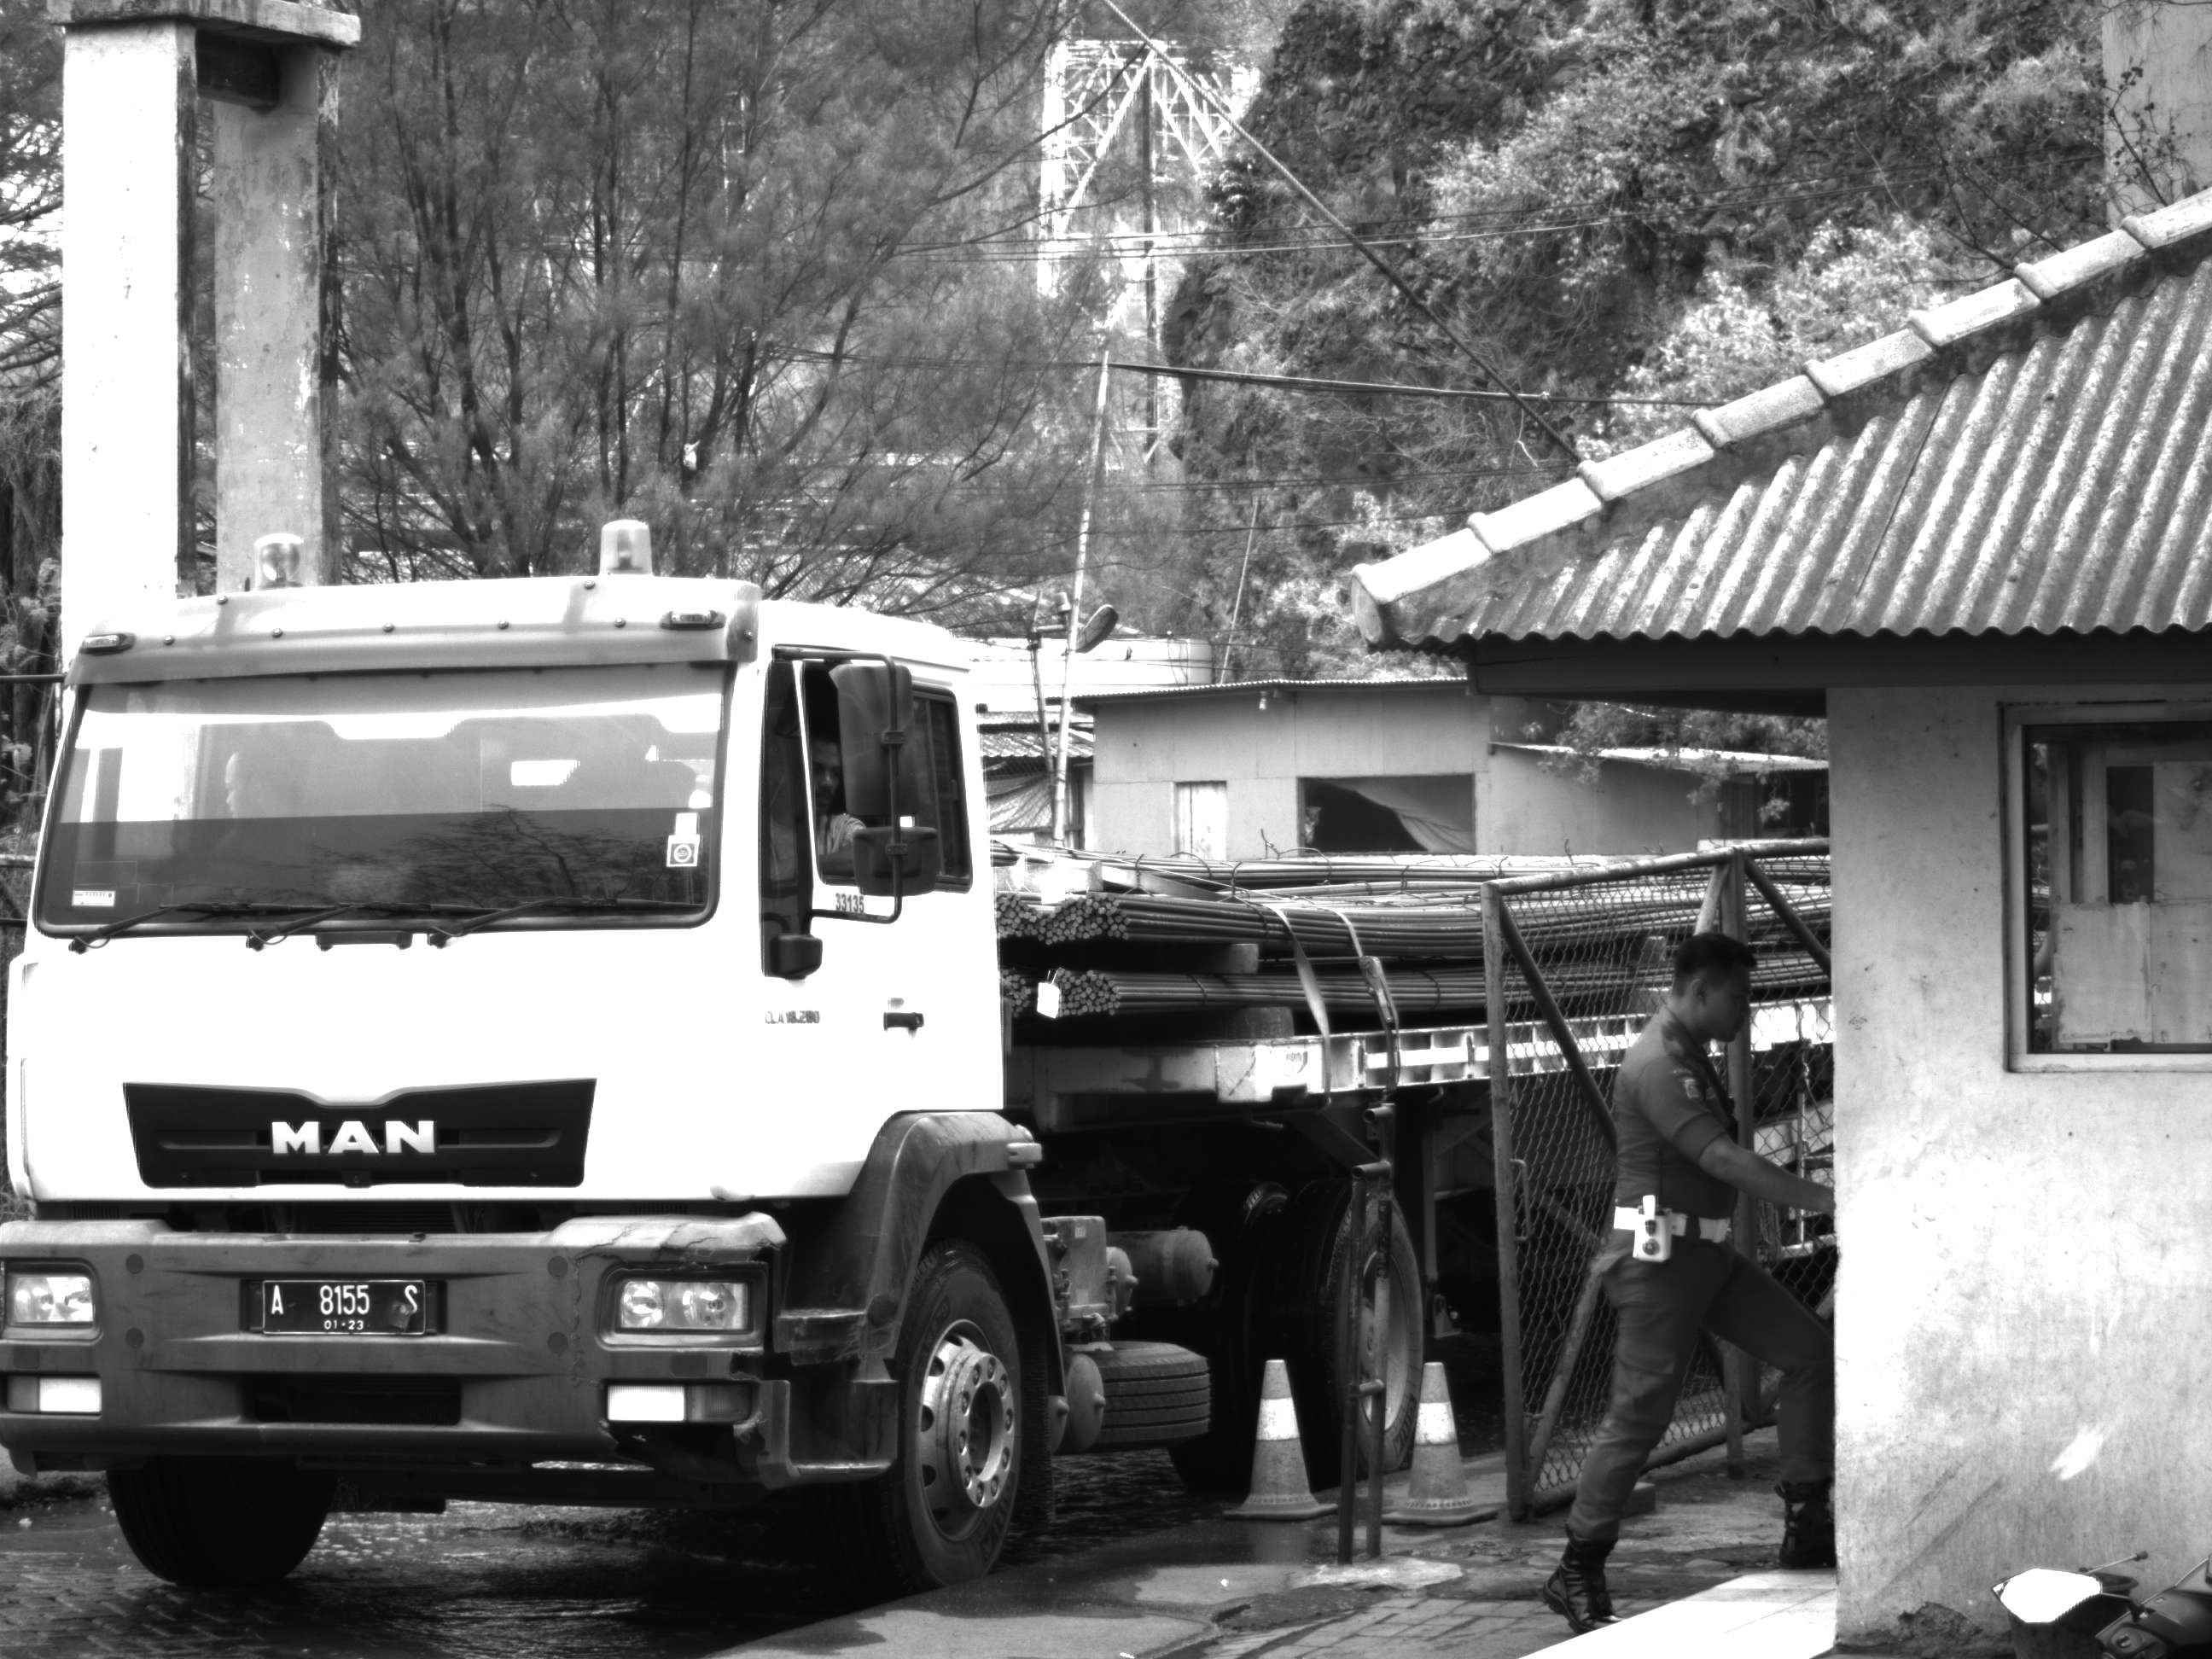day_truck_front: (4, 601, 1050, 1592)
plate: (264, 1272, 438, 1341)
